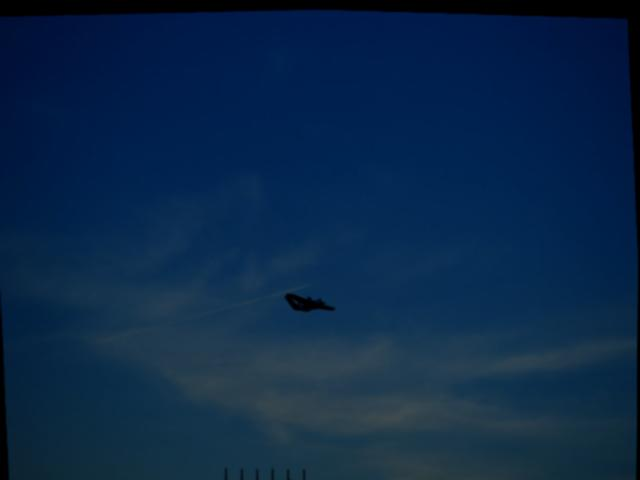plane: (285, 285, 334, 314)
